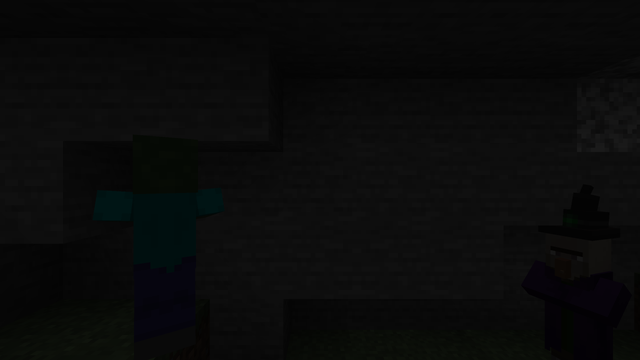sorcieres: (536, 227, 624, 357)
zombies: (109, 141, 209, 356)
